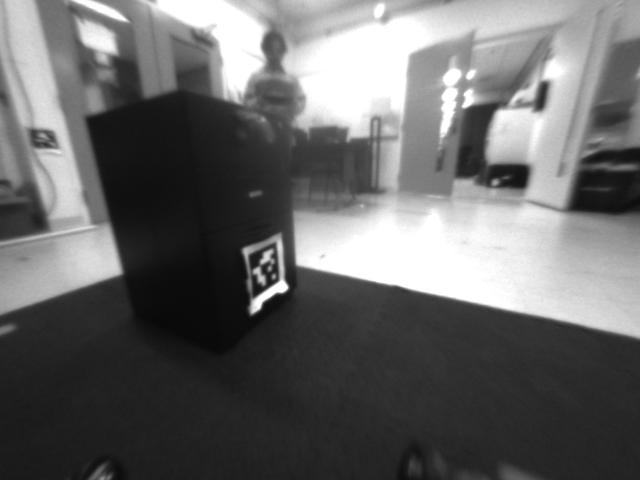drawer: (225, 103, 277, 156)
